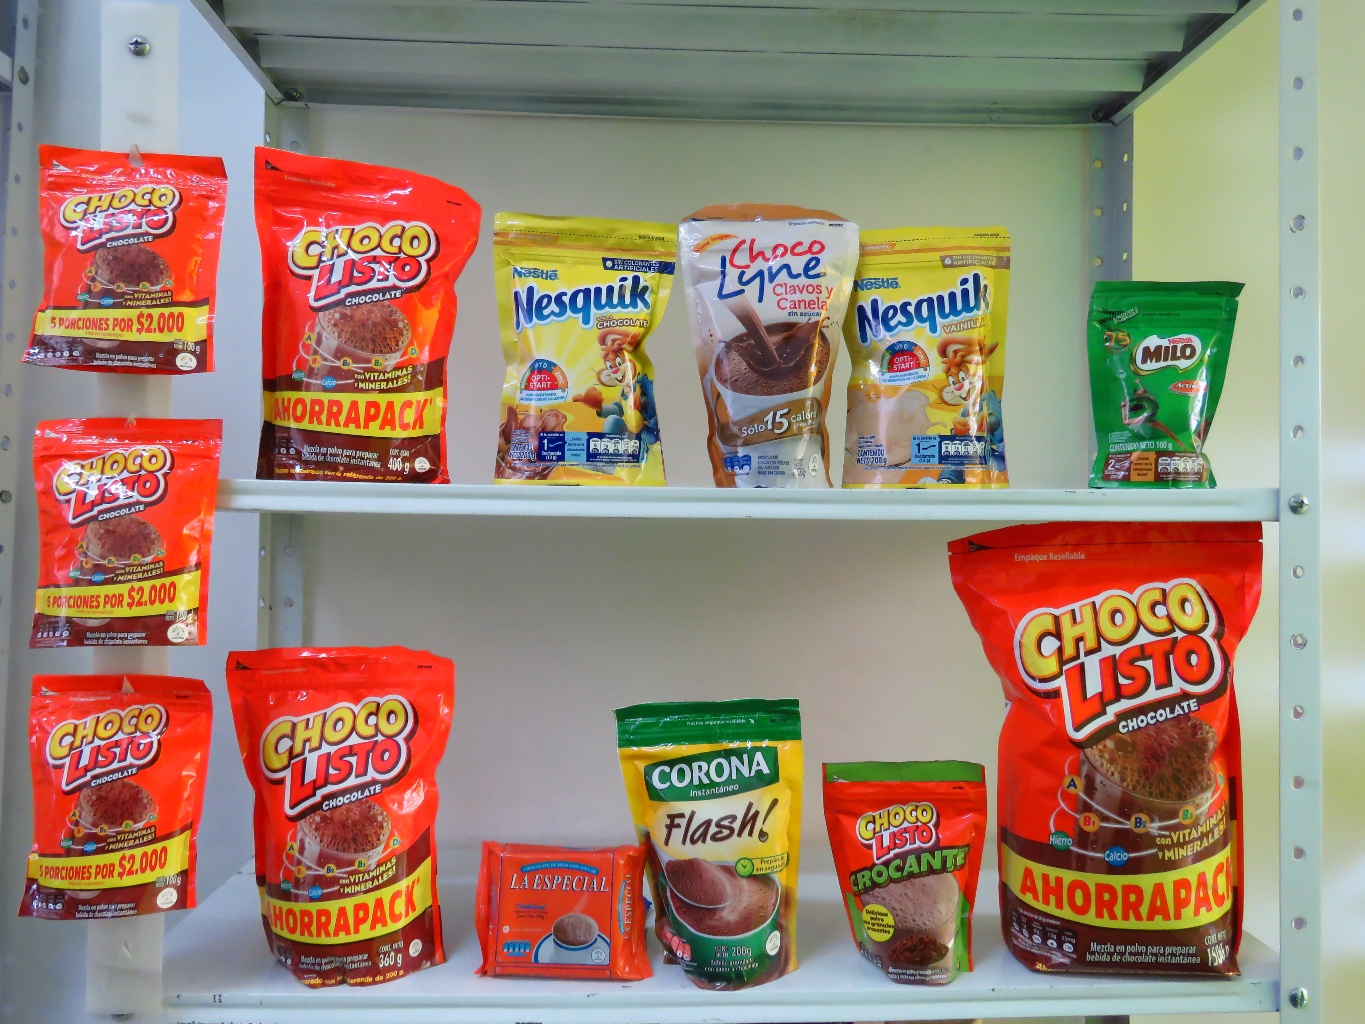COL0170102DYP10000: (822, 752, 994, 982)
COL0170103DYP1,500: (952, 518, 1278, 996)
COL0170103DYP10000: (35, 675, 217, 918)
COL0170103DYP36000: (222, 641, 447, 989)
COL0170103DYP40000: (246, 138, 471, 490)
COL0170203DYP10000: (1087, 268, 1245, 490)
COL0170303DYP20000: (496, 210, 673, 475)
COL0170306DYP20000: (839, 225, 1016, 483)
